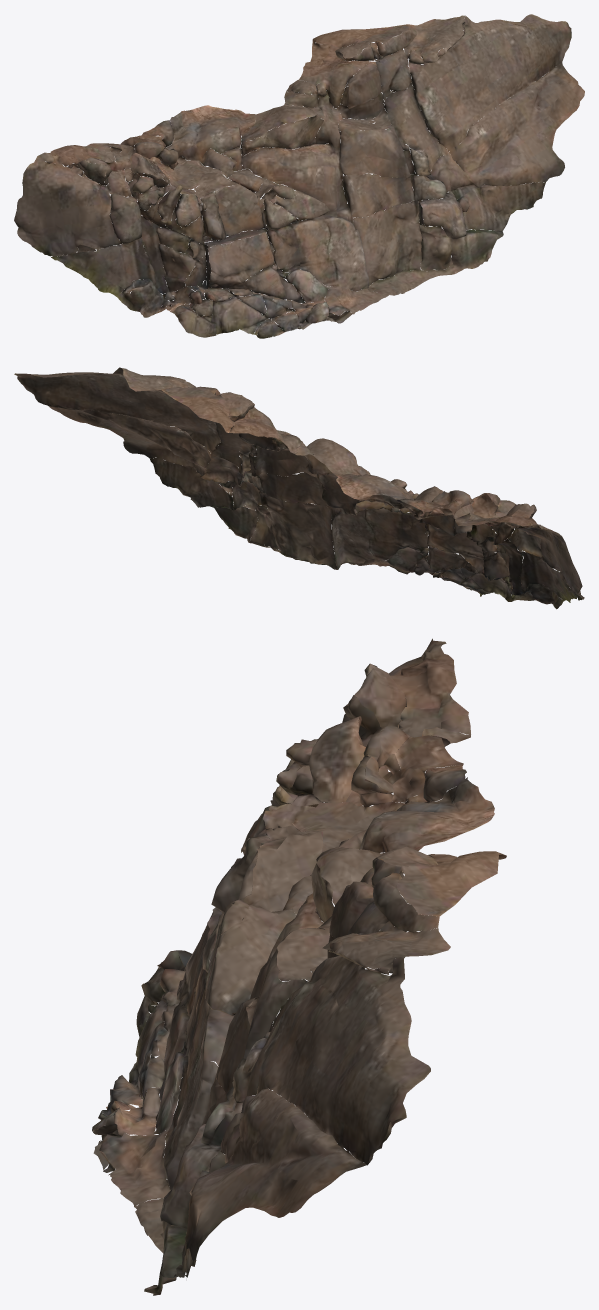
Rendered from namaqualand_cliff_02.glb.
3 renders of one model, top to bottom at view 1: azimuth 30°, elevation 25°; view 2: azimuth 150°, elevation 25°; view 3: azimuth 270°, elevation 25°, orthographic. The views are drawn at different scales.
Visible parts, largest first — view 1: drone_rock_02_LOD0; view 2: drone_rock_02_LOD0; view 3: drone_rock_02_LOD0.
Boxes of the visible parts, x1,y1,x2,y2 form: drone_rock_02_LOD0: [14, 14, 584, 338]; drone_rock_02_LOD0: [14, 367, 584, 609]; drone_rock_02_LOD0: [92, 638, 506, 1295].
Size of the model in its own units: 20.22 by 7.2 by 6.61.
Materials: 1 (1 with a texture image).
